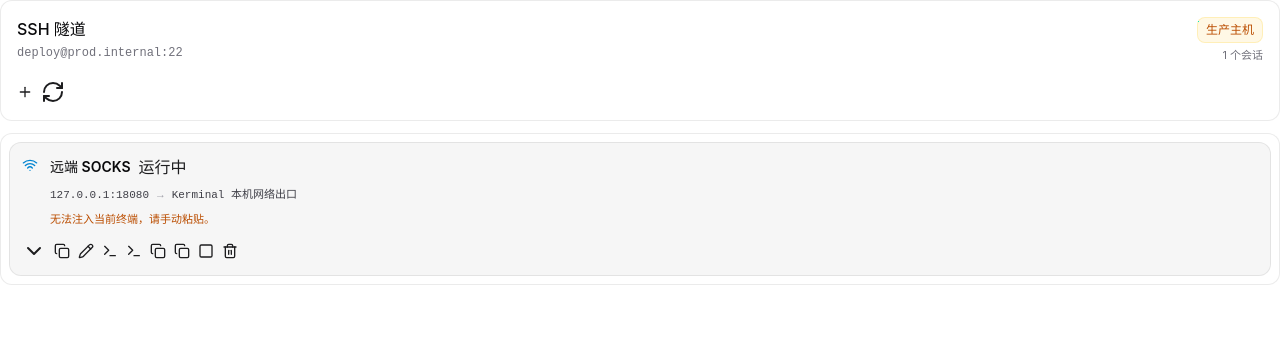
PortForwardToolContent › copies remote SOCKS scripts through the desktop clipboard facade
This screenshot has width=1280, height=352.
Click the button named "复制配置脚本".
click(158, 251)  # box [150, 239, 166, 263]
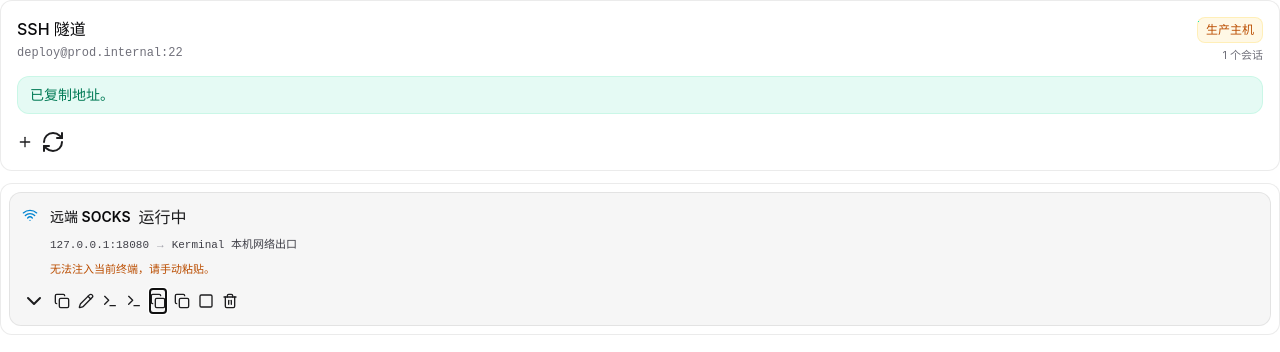
Expected: the text "已复制地址。" is shown, [17, 76, 1263, 114]
